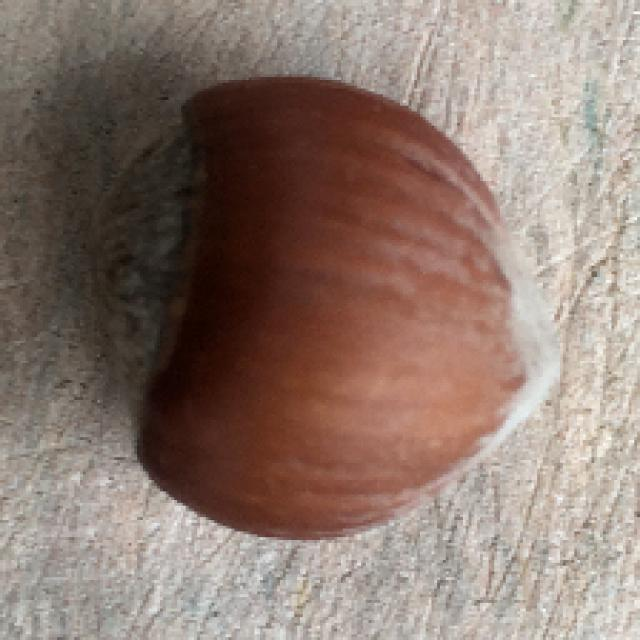qualityHazelnut: (82, 76, 561, 541)
